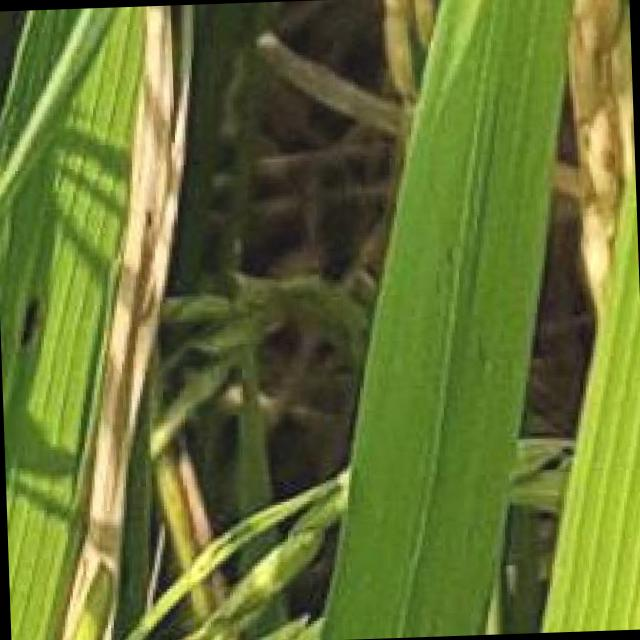Rice_Bacterial_Blight: (89, 10, 205, 459)
